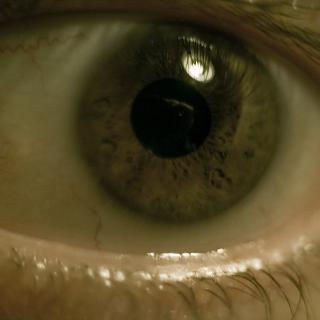pupil: (130, 78, 210, 158)
